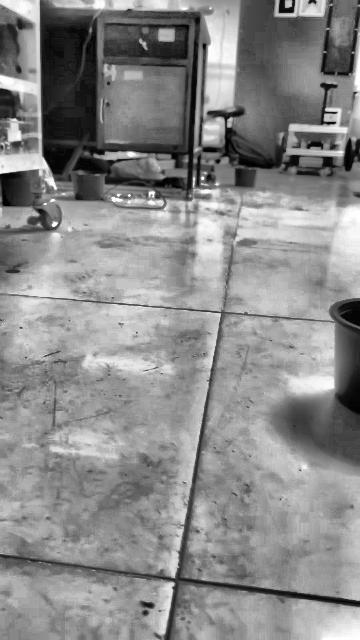pot: (329, 298, 360, 414)
